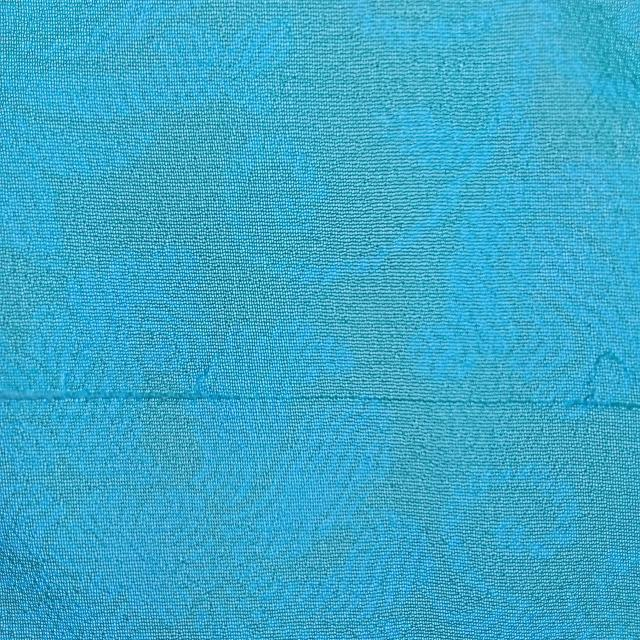pulled_or_thick_thread: (0, 384, 637, 419)
